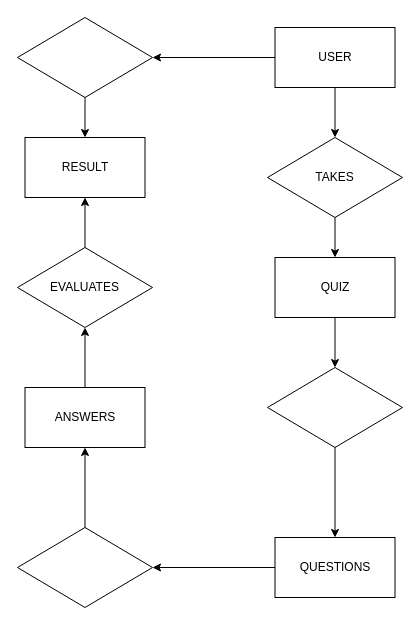
Some shapes in this 420 by 625 pixel diagram are drawn without their labels. Each missing label, with the box of its shape:
CONTAINS: (266, 366, 402, 448)
GETS: (16, 16, 152, 98)
HAS: (16, 526, 152, 608)
